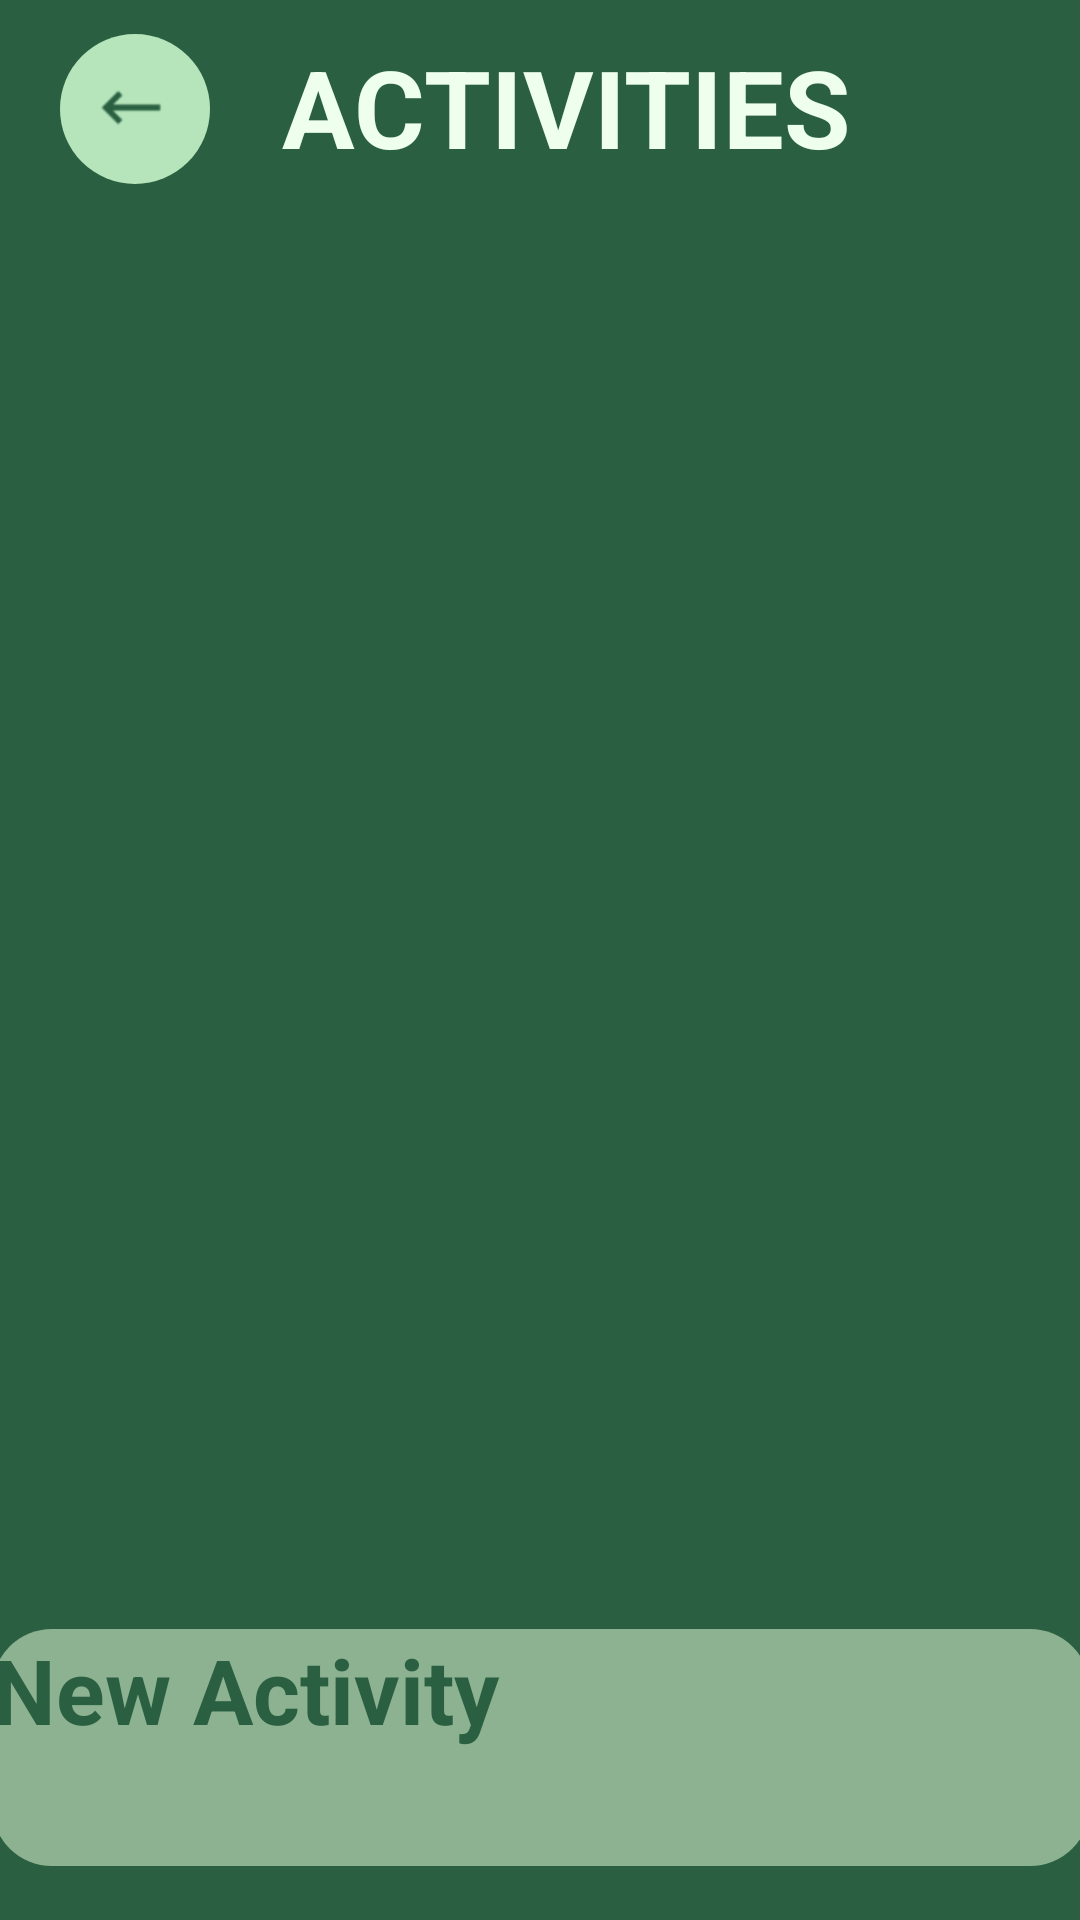

Screen size 1080×1920. Icon name, then its box in pixels as (x1, y1, x2, y2):
Back: (60, 34, 210, 184)
